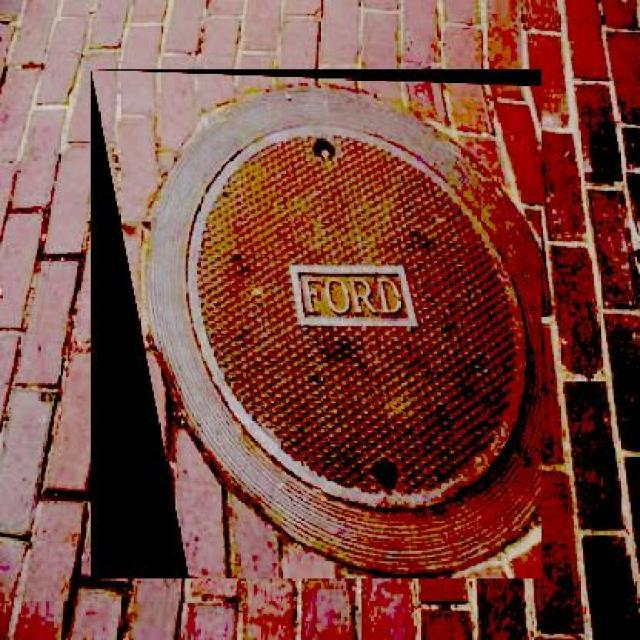Manhole: (90, 70, 542, 578)
